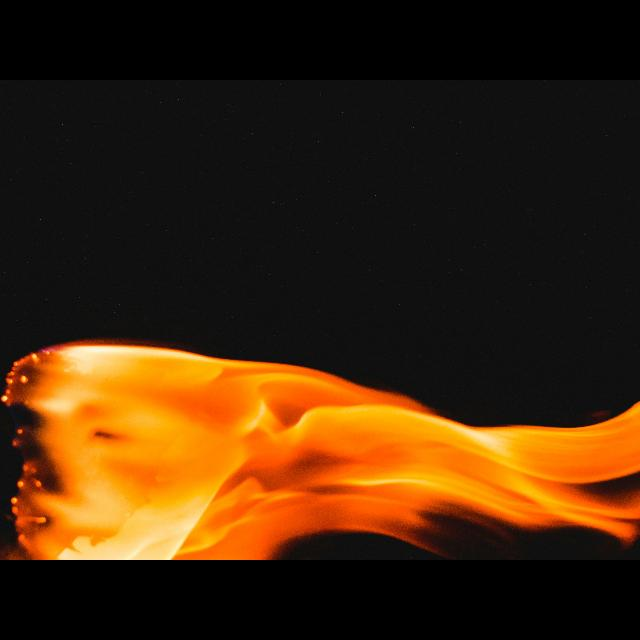fire: (5, 343, 640, 560)
